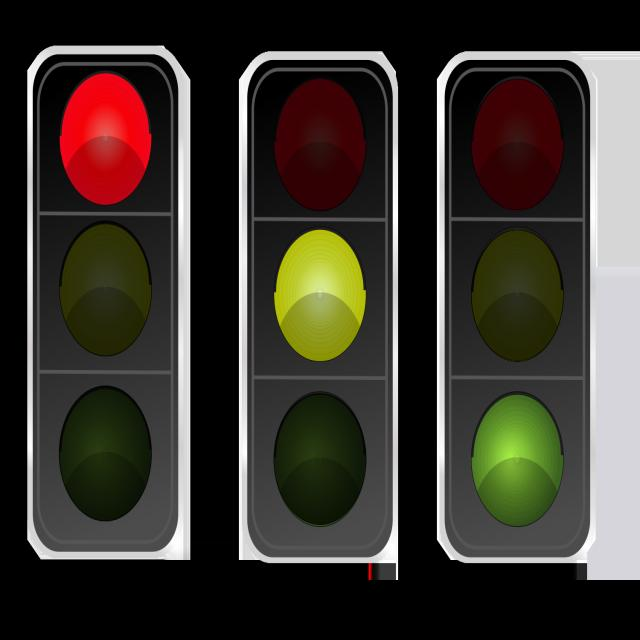green-lights: (468, 391, 571, 527)
red-lights: (49, 68, 158, 200)
yellow-lights: (262, 224, 374, 360)
